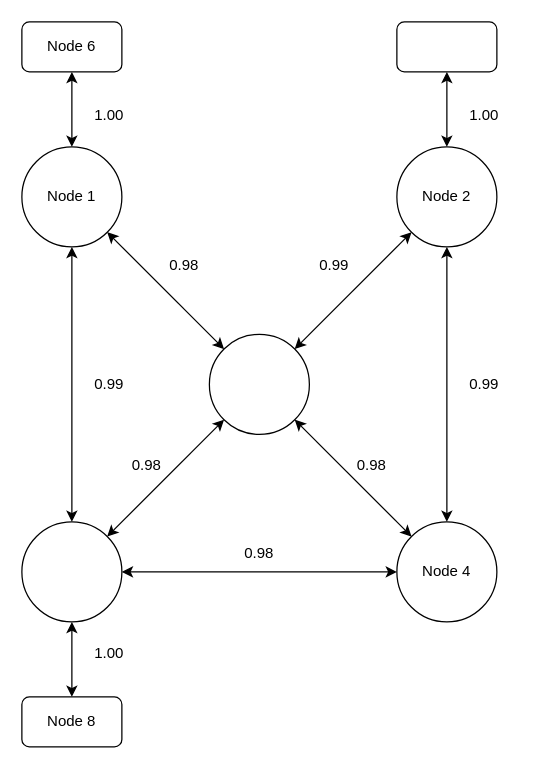
This 544x769 diagram has some shape labels left out. Each missing label, with the centre of its shape:
"Node 3" belongs at point (71, 571).
"Node 5" belongs at point (258, 383).
"Node 7" belongs at point (446, 46).
